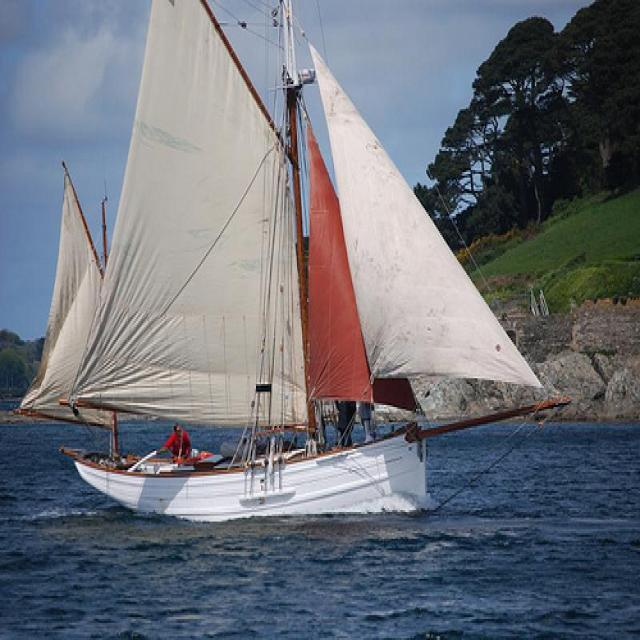Ship: (15, 4, 570, 527)
